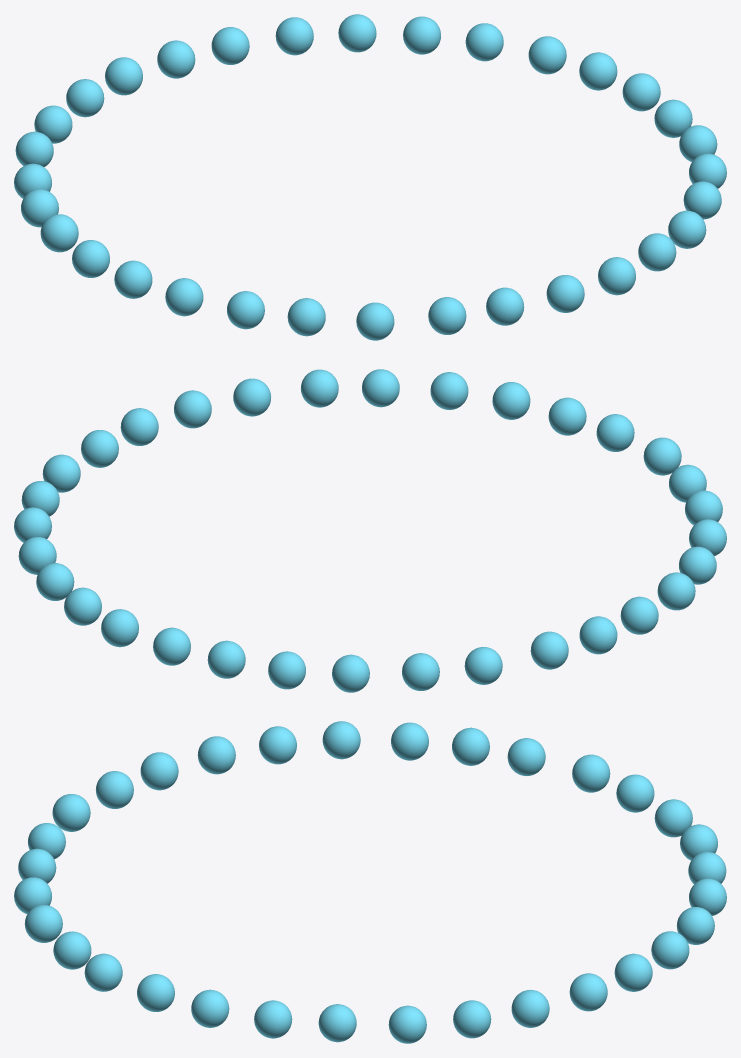
The picture shows the model from 3 angles, top to bottom: view 1: azimuth 30°, elevation 25°; view 2: azimuth 150°, elevation 25°; view 3: azimuth 270°, elevation 25°; orthographic projection.
Visible parts, largest first — view 1: Sphere049; view 2: Sphere049; view 3: Sphere049.
Part boxes in pixels (<box>): Sphere049: <box>14,14,726,340</box>; Sphere049: <box>14,369,726,692</box>; Sphere049: <box>14,721,726,1043</box>.
Size of the model in its own units: 153 by 8.22 by 153.
